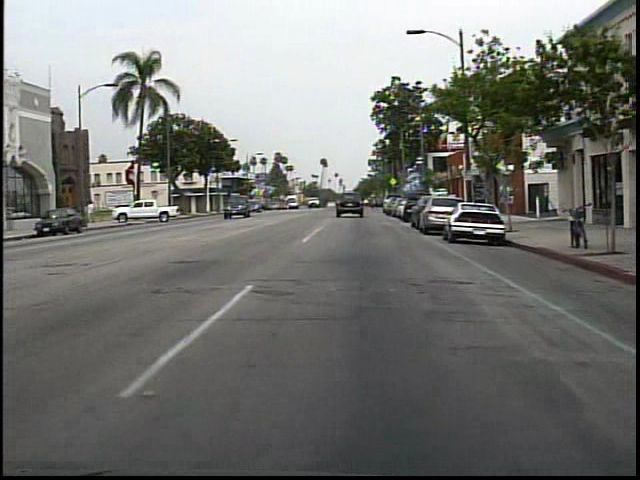person: (83, 199, 99, 229), (367, 191, 380, 219)
